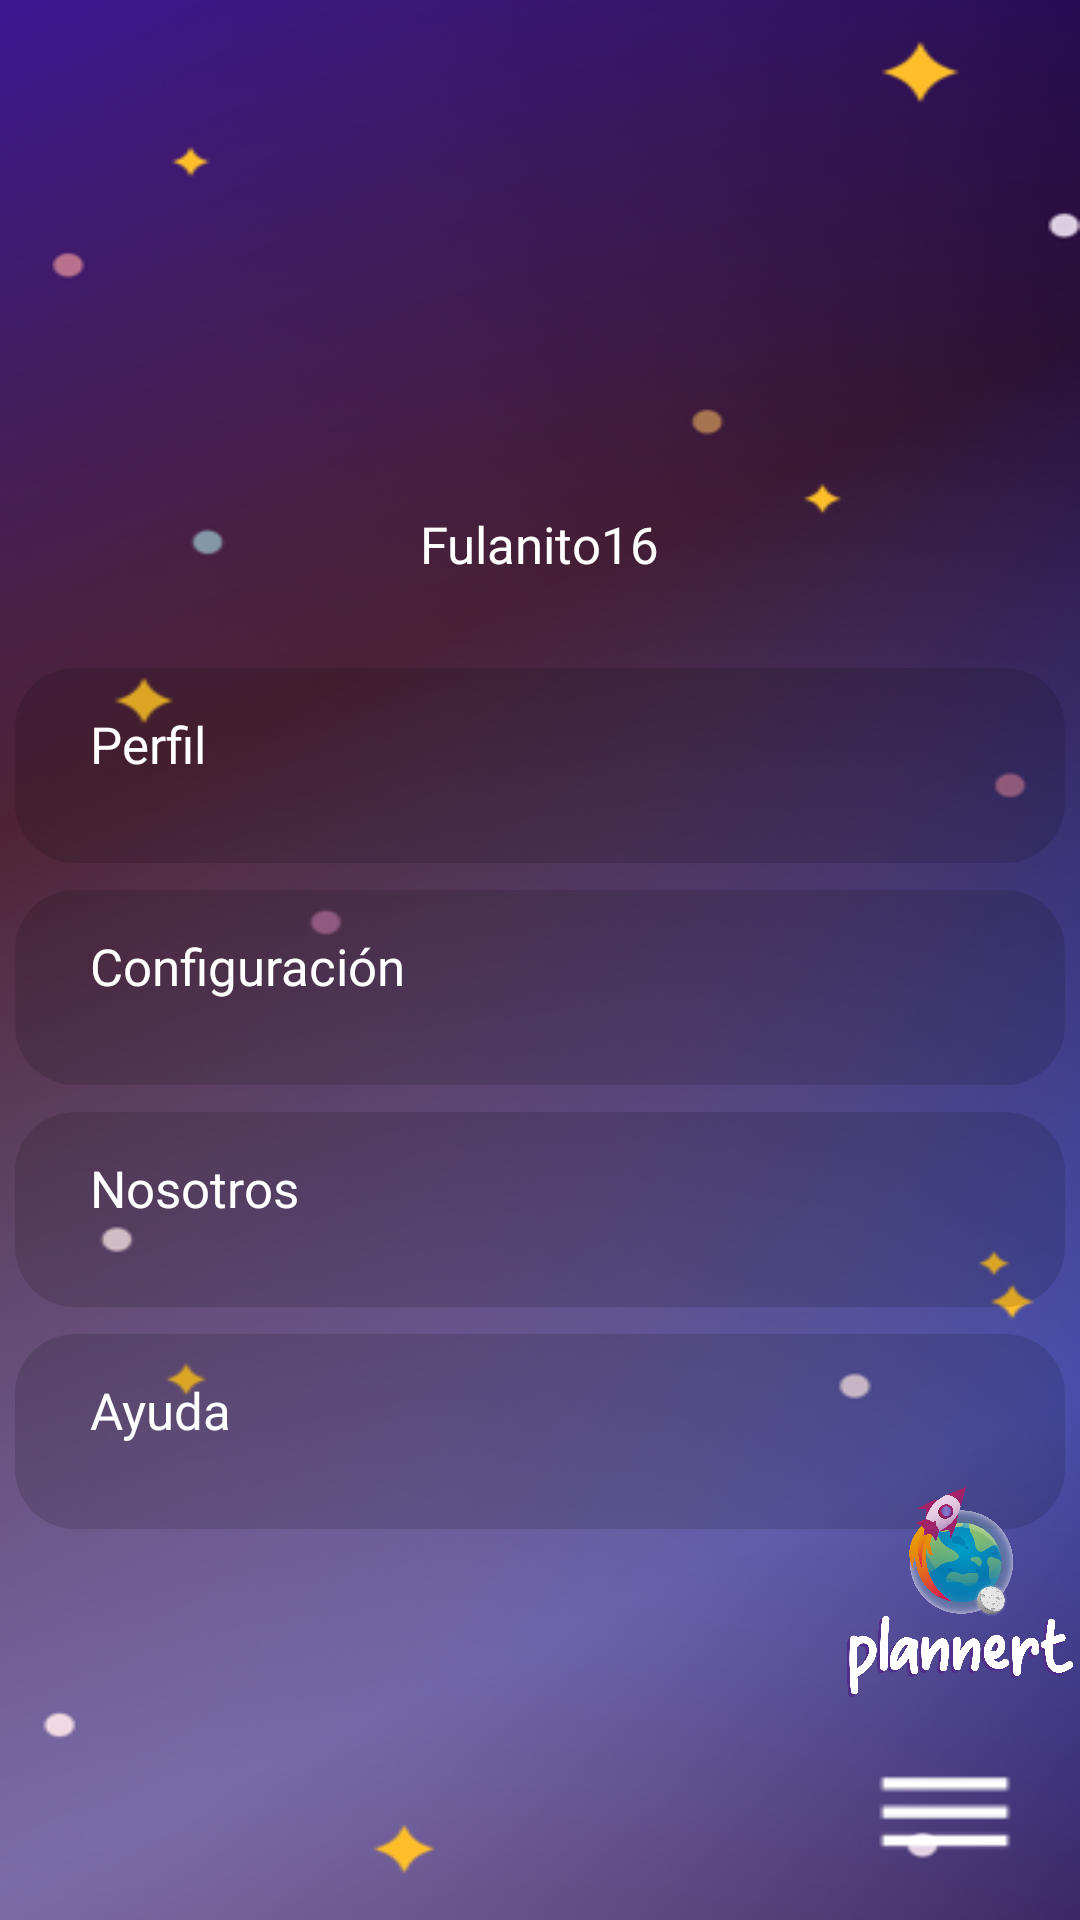

Locate icon controls on the screen. Image size 1080*1920, boxes as (x1, y1, x2, y2).
barraicon: (879, 1776, 1011, 1858)
